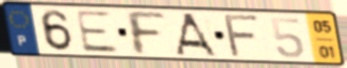5: (268, 15, 306, 59)
6: (38, 8, 75, 53)
A: (173, 11, 220, 59)
E: (73, 9, 122, 54)
F: (122, 9, 169, 57), (223, 14, 263, 59)
